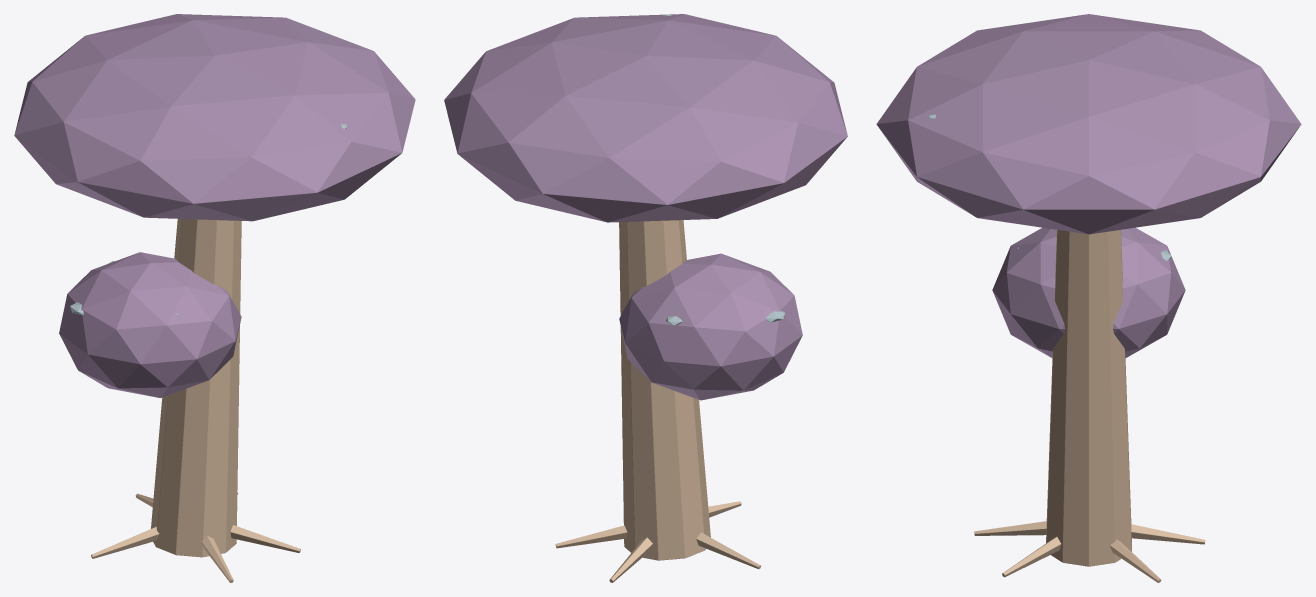
The model's file is spore_tree.glb.
3 views of the same model, side by side, from view 1: azimuth 30°, elevation 25°; view 2: azimuth 150°, elevation 25°; view 3: azimuth 270°, elevation 25° (orthographic). The views are drawn at different scales.
Visible parts, largest first — view 1: VelvetCap.002, TwistingStem.002; view 2: VelvetCap.002, TwistingStem.002; view 3: VelvetCap.002, TwistingStem.002.
Boxes of the visible parts, x1,y1,x2,y2 form: VelvetCap.002: (14, 14, 415, 397); TwistingStem.002: (91, 219, 300, 582); VelvetCap.002: (444, 14, 847, 400); TwistingStem.002: (555, 220, 760, 582); VelvetCap.002: (876, 14, 1301, 357); TwistingStem.002: (974, 230, 1205, 582).
Bounding box in the file's own units: 3.14 × 4.27 × 3.3.
